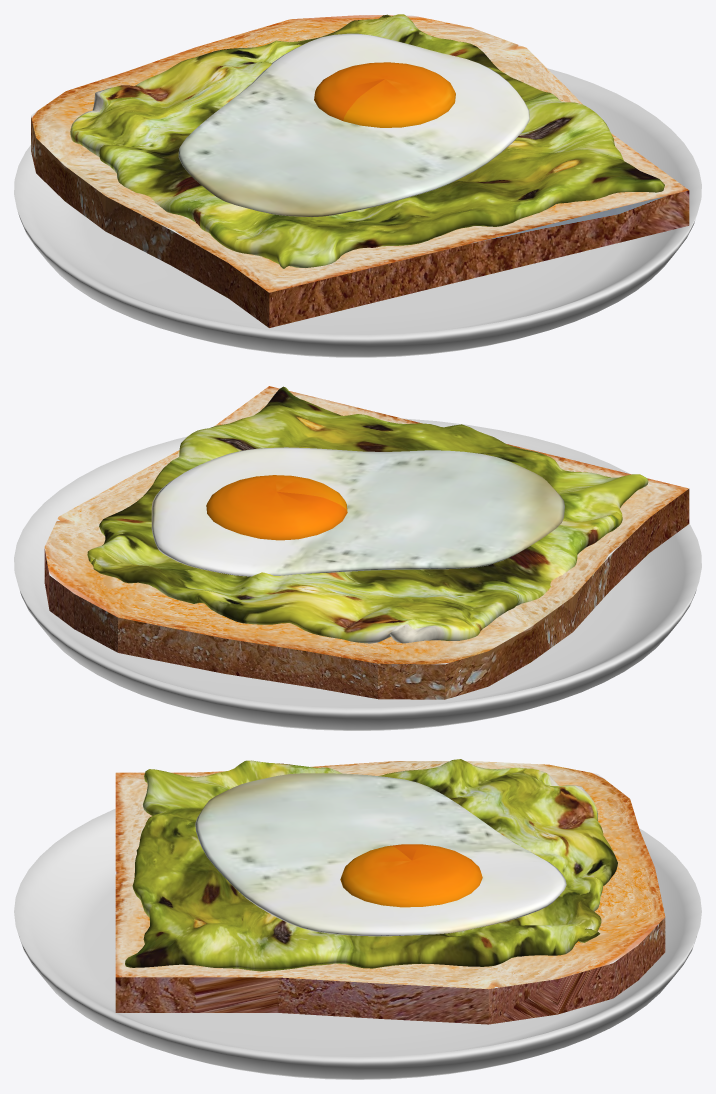
Rendered from avocado-toast.glb.
The picture shows the model from 3 angles, top to bottom: view 1: azimuth 30°, elevation 25°; view 2: azimuth 150°, elevation 25°; view 3: azimuth 270°, elevation 25°; orthographic projection.
Parts seen in each view (by area): view 1: Avocado, Bread, SandwichPlate, EggWhite, Sphere; view 2: Bread, Avocado, SandwichPlate, EggWhite, Sphere; view 3: SandwichPlate, Avocado, Bread, EggWhite, Sphere.
Part boxes in pixels (x1,y1,x2,y2): Avocado: [70, 14, 664, 268]; Bread: [31, 15, 689, 327]; SandwichPlate: [14, 68, 701, 357]; EggWhite: [178, 33, 529, 217]; Sphere: [314, 62, 455, 127]; Bread: [44, 386, 689, 699]; Avocado: [87, 386, 648, 643]; SandwichPlate: [14, 418, 701, 730]; EggWhite: [151, 447, 564, 576]; Sphere: [206, 475, 347, 540]; SandwichPlate: [14, 808, 701, 1079]; Avocado: [125, 759, 617, 971]; Bread: [115, 761, 665, 1024]; EggWhite: [195, 773, 566, 936]; Sphere: [340, 844, 482, 907].
Bounding box in the file's own units: 2.84 × 0.5246 × 2.84.
6 materials, 5 textured.
